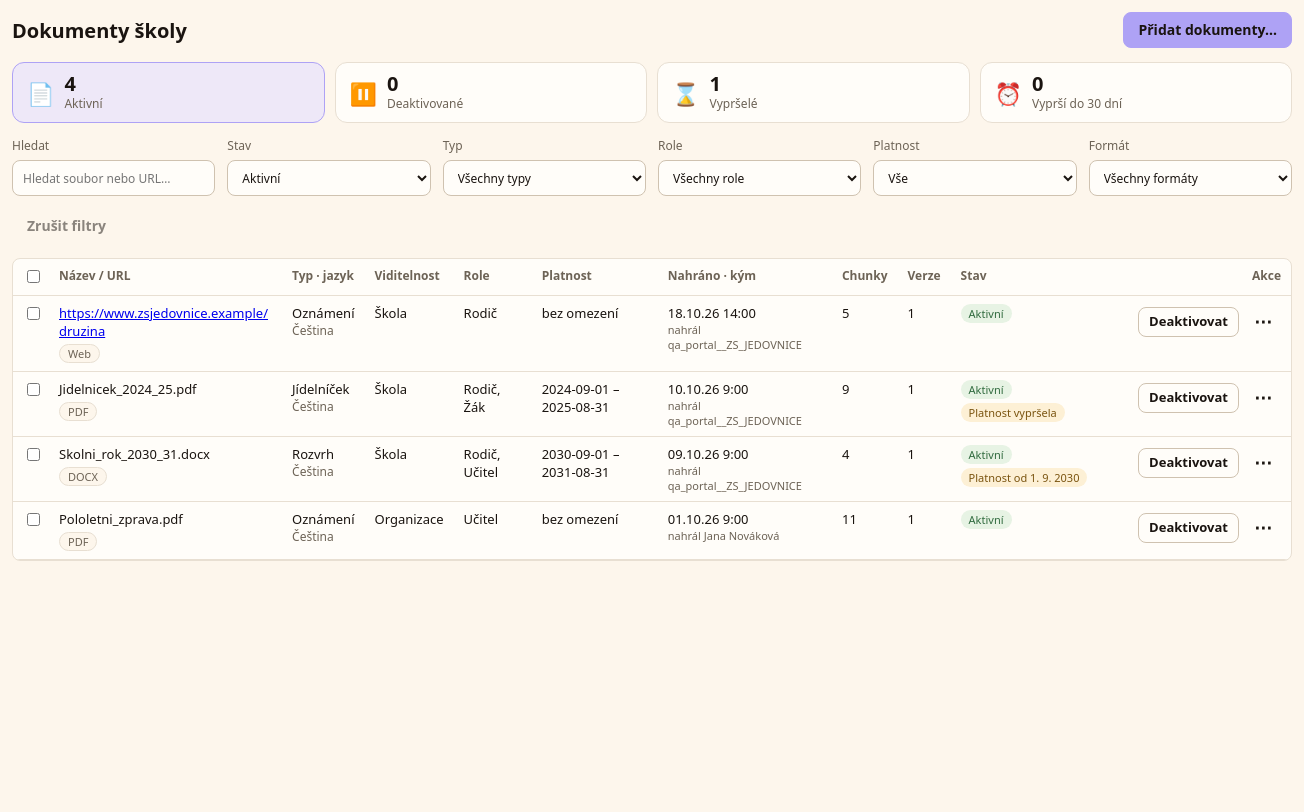
DocumentsPage — filters › filters by validity, type and role through the list parameters
Expected: the table is shown, [13, 259, 1291, 560]
Select "Platnost vypršela" in the dropdown labelled "Platnost" at (975, 178), box [873, 160, 1077, 196]
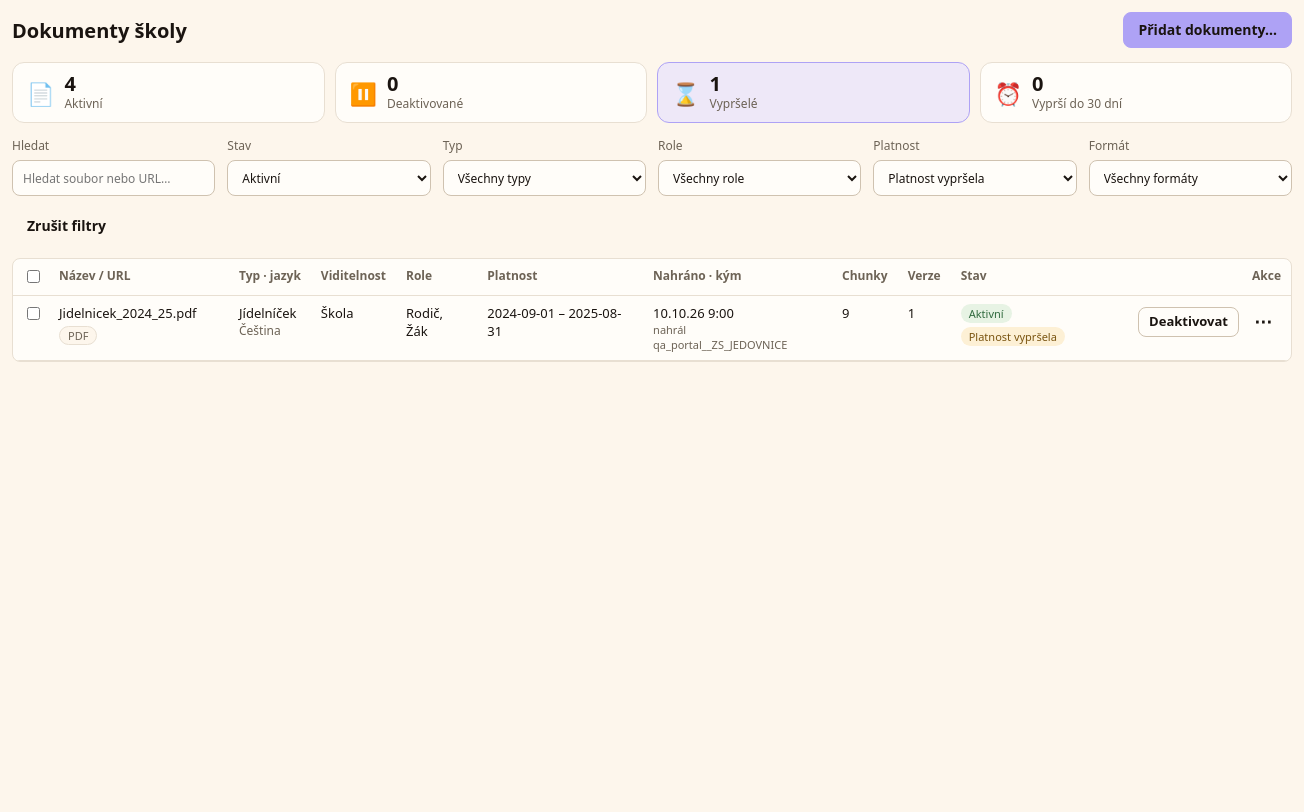
Expected: the text "Jidelnicek_2024_25.pdf" is shown, [59, 304, 219, 322]
Expected: the link "https://www.zsjedovnice.example/druzina" is gone
Expected: the text "Skolni_rok_2030_31.docx" is gone
Select "Zatím neplatné" in the dropdown labelled "Platnost" at (975, 178), box [873, 160, 1077, 196]
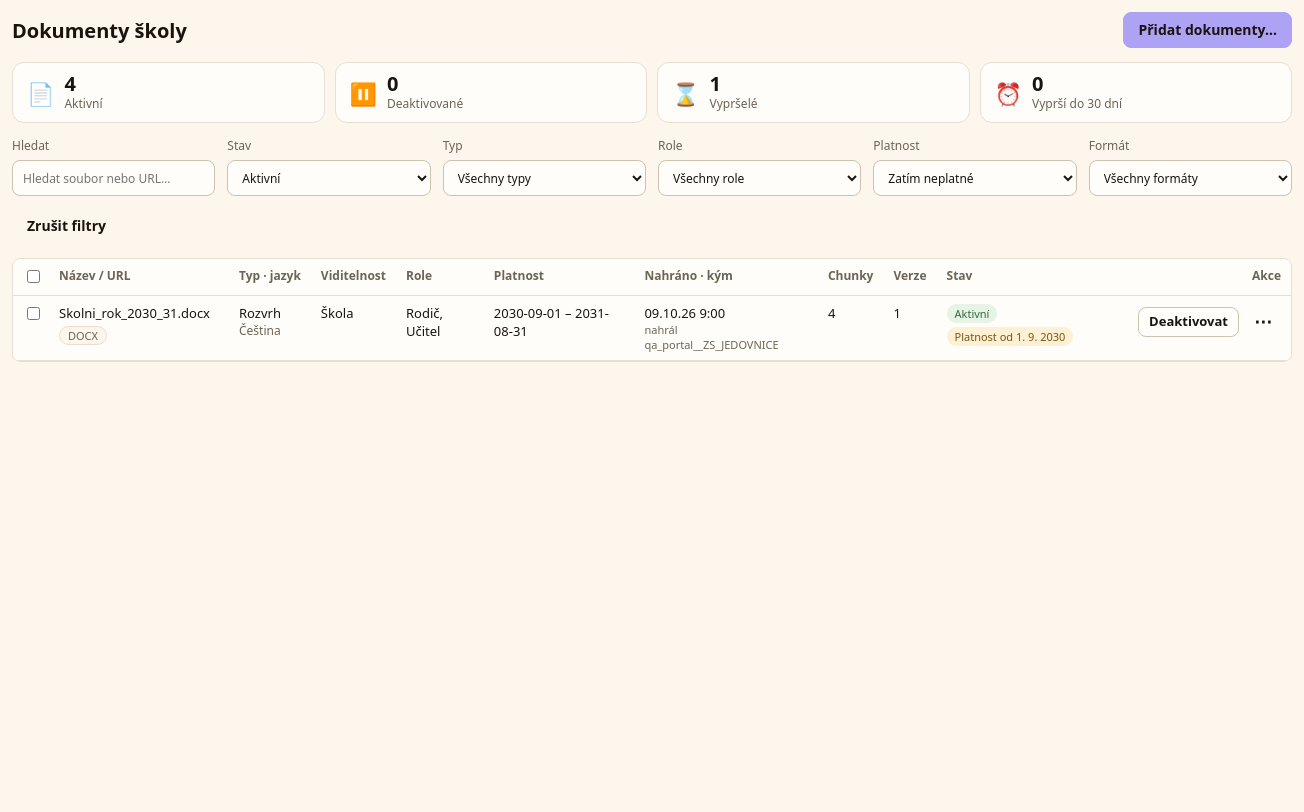
Expected: the text "Skolni_rok_2030_31.docx" is shown, [59, 304, 219, 322]
Expected: the text "Jidelnicek_2024_25.pdf" is gone
Select "Vše" in the dropdown labelled "Platnost" at (975, 178), box [873, 160, 1077, 196]
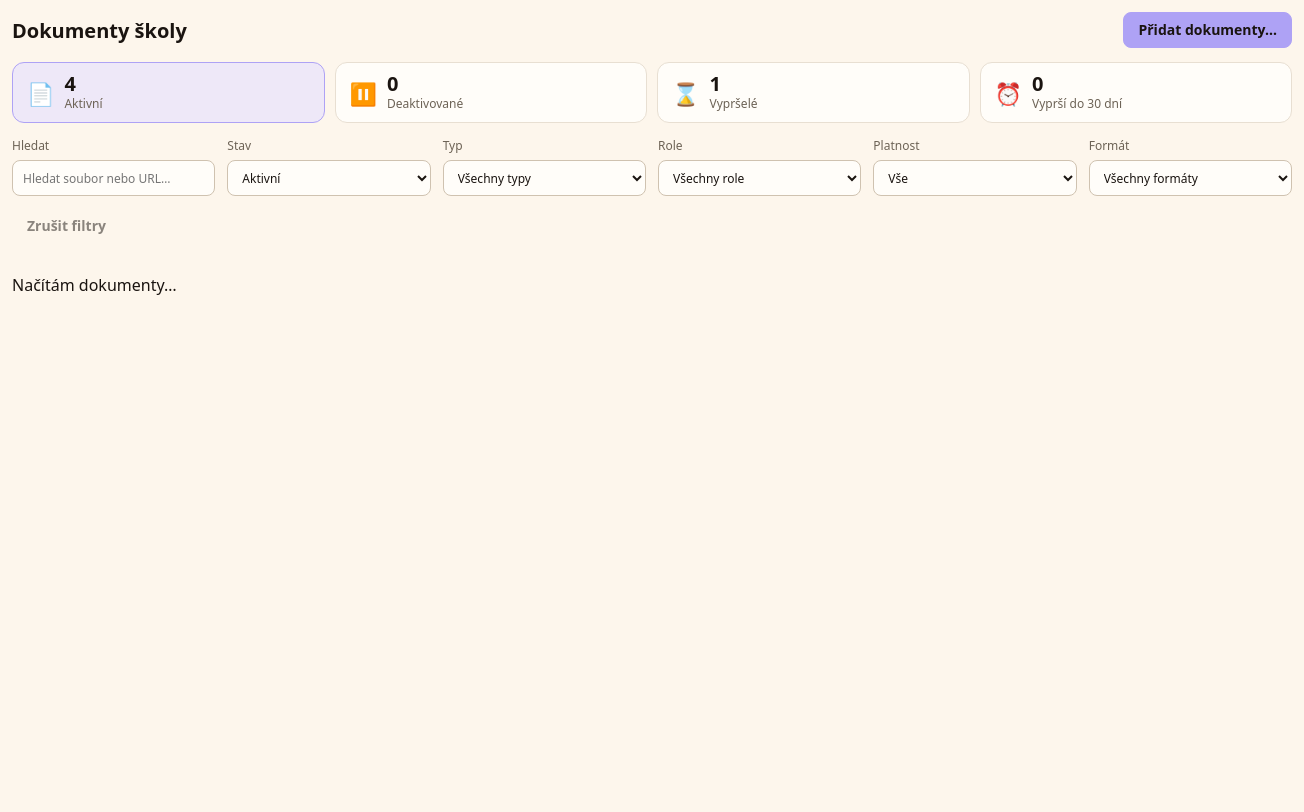
Select "Učitel" in the dropdown labelled "Role" at (760, 178), box [658, 160, 861, 196]
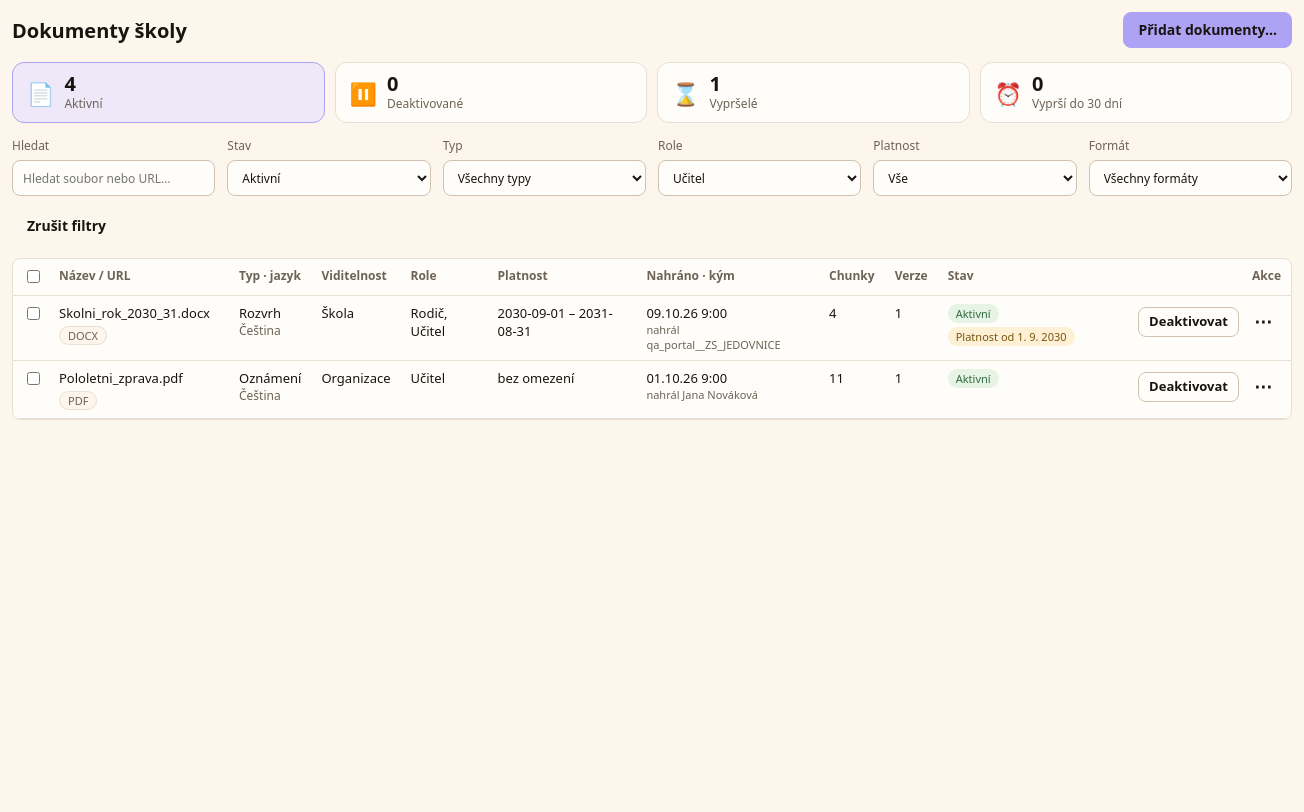
Expected: the link "https://www.zsjedovnice.example/druzina" is not shown
Expected: the text "Pololetni_zprava.pdf" is shown, [59, 369, 183, 387]
Expected: the text "Skolni_rok_2030_31.docx" is shown, [59, 304, 219, 322]
Select "Oznámení" in the dropdown labelled "Typ" at (544, 178), box [443, 160, 646, 196]
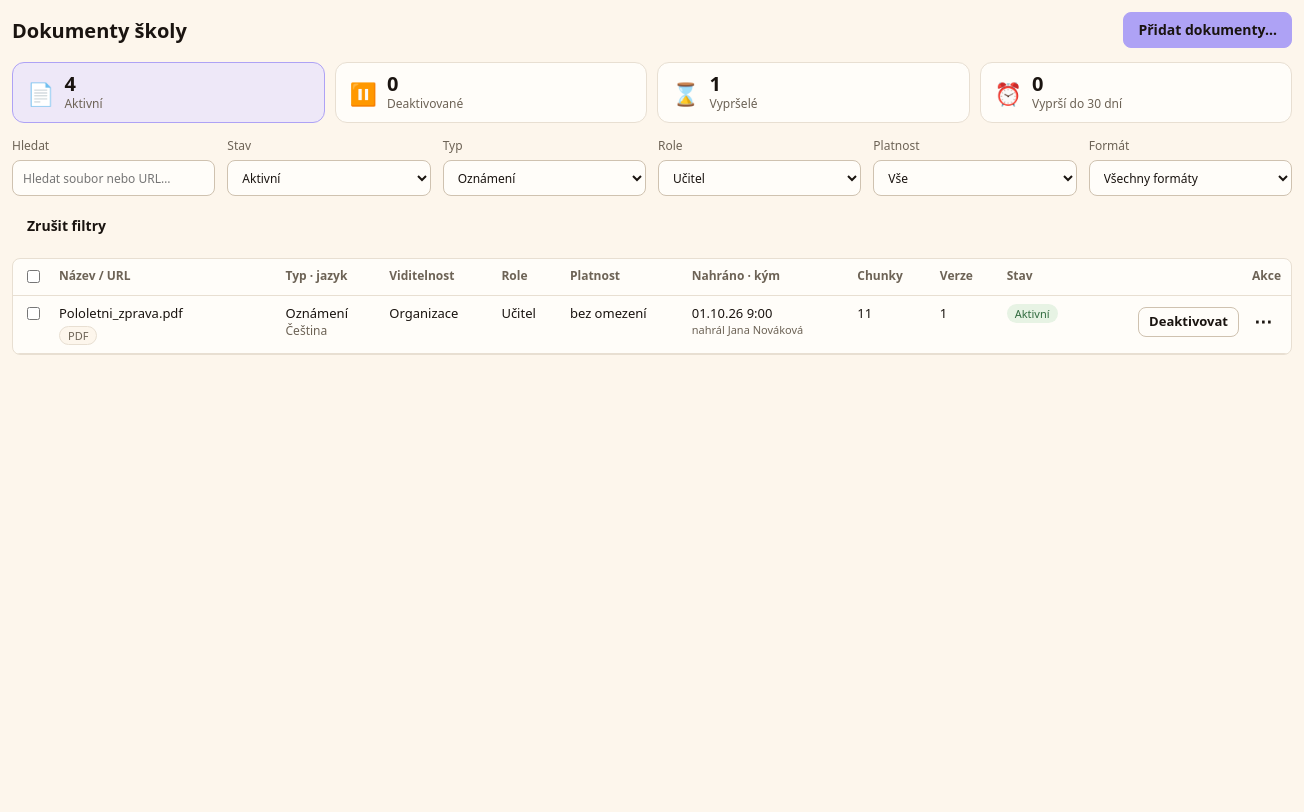
Expected: the text "Pololetni_zprava.pdf" is shown, [59, 304, 183, 322]
Expected: the text "Skolni_rok_2030_31.docx" is gone
Click the button "Zrušit filtry".
click(66, 226)  # box [12, 208, 121, 244]
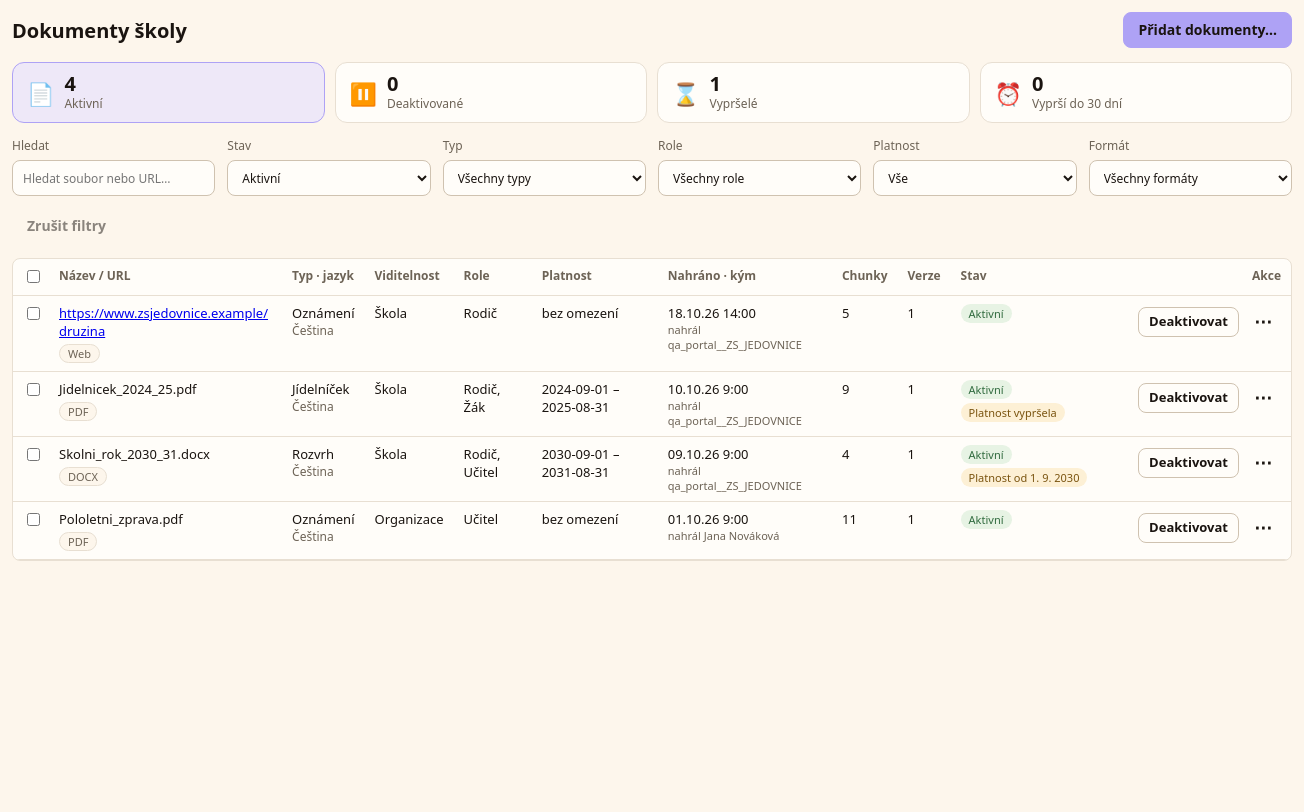
Expected: the link "https://www.zsjedovnice.example/druzina" is shown, [59, 304, 272, 340]
